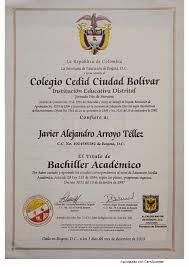certificado: (14, 8, 174, 250)
escudo de colombia: (71, 11, 119, 56)
firma: (52, 189, 97, 213), (100, 189, 139, 214)
institucion: (28, 74, 162, 90)
nombre: (35, 125, 148, 141)
titulo: (44, 157, 144, 171)
